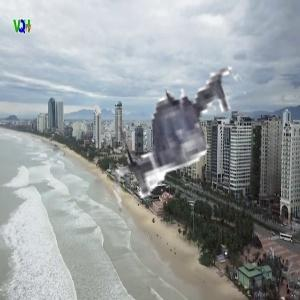drone: (91, 45, 268, 222)
